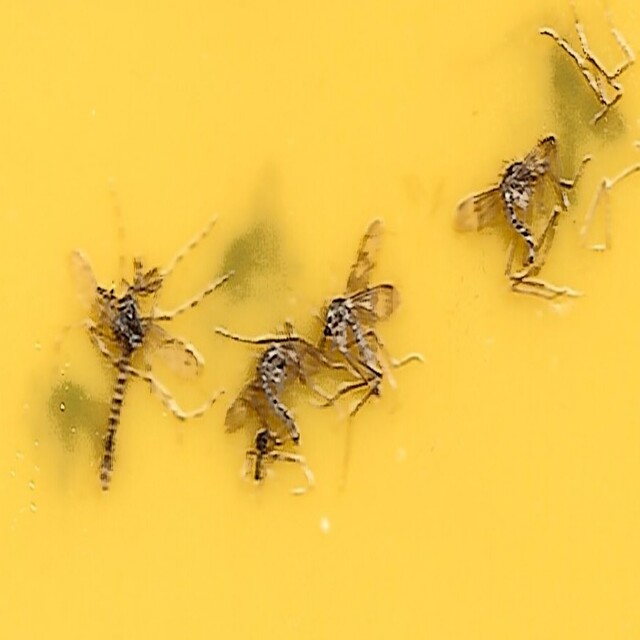Nematocera: (72, 248, 168, 510), (452, 130, 568, 301), (315, 219, 396, 418), (224, 344, 304, 452), (251, 418, 297, 493)
